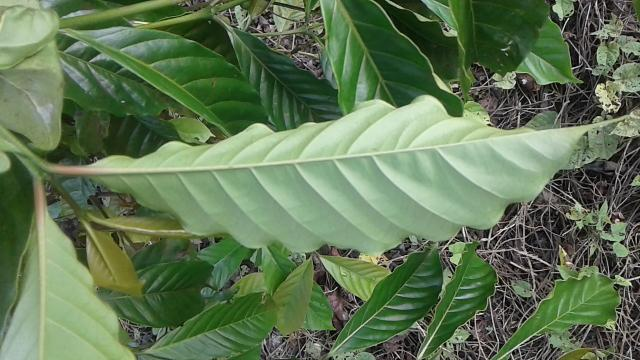healthy: (83, 94, 626, 258)
